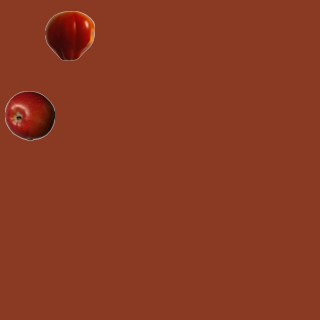Apple Braeburn: (4, 90, 54, 140)
Tomato 1: (44, 10, 94, 60)
